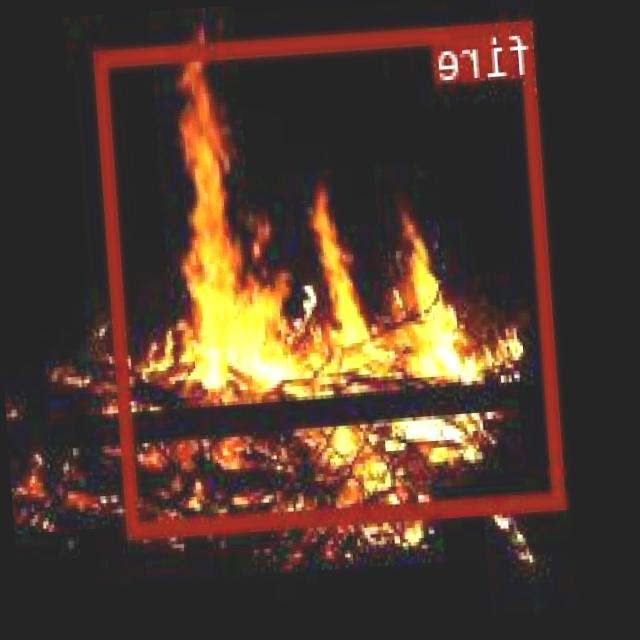fire: (97, 20, 568, 534)
